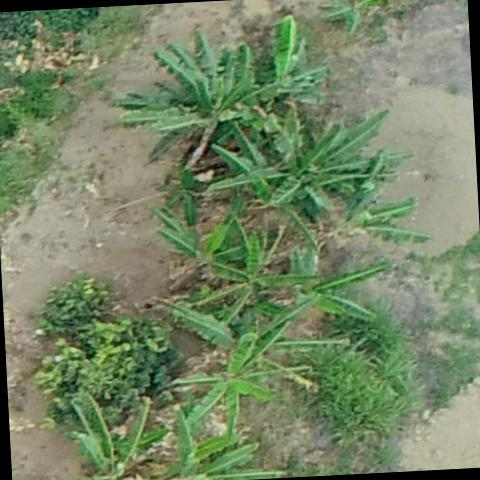Banana-plant: (108, 26, 272, 162), (264, 112, 397, 216), (163, 330, 284, 440), (259, 249, 390, 335), (183, 240, 314, 326), (195, 113, 308, 210), (134, 198, 252, 286)
